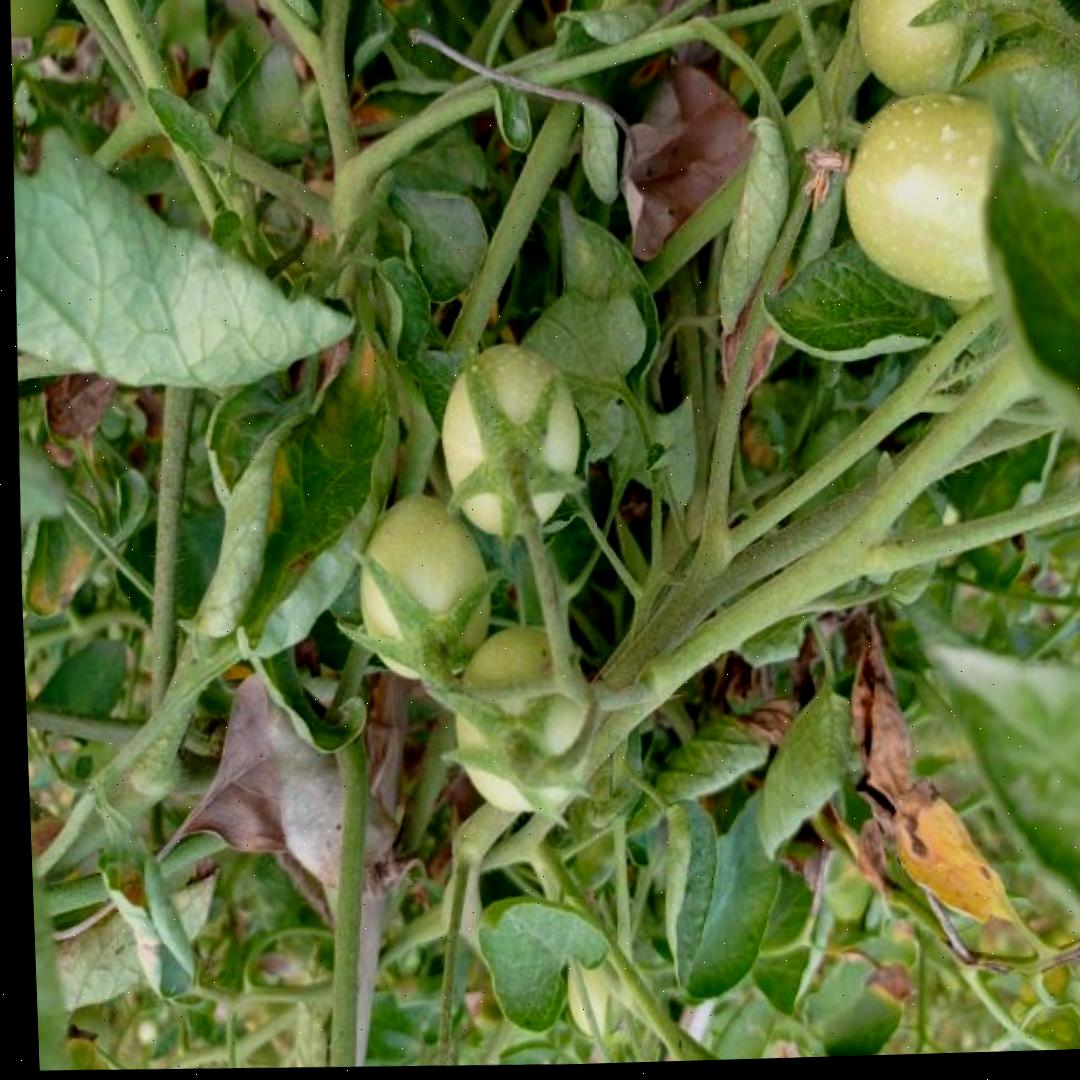mentah: (834, 88, 1051, 312), (433, 339, 583, 544), (351, 488, 496, 685), (449, 624, 596, 816), (854, 0, 1004, 105)
